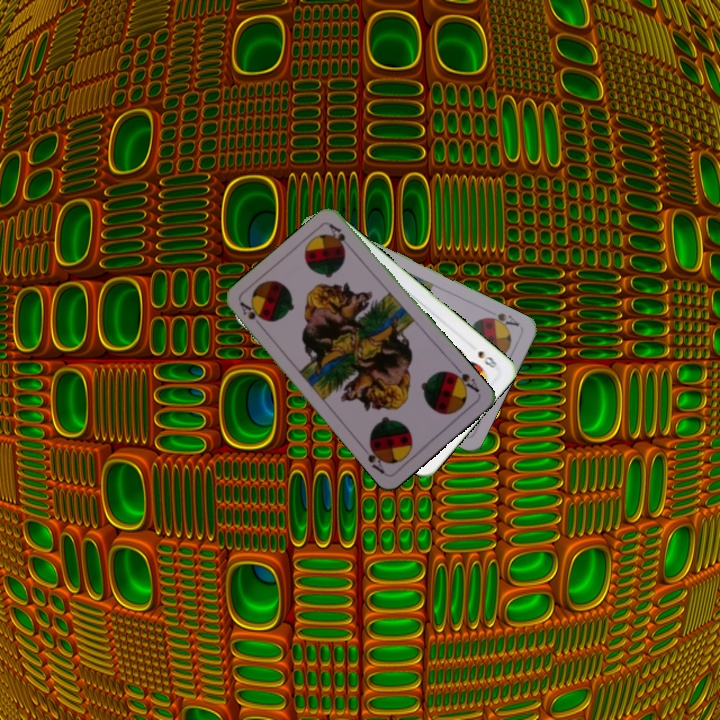S8: (474, 346, 500, 371)
SA: (446, 362, 482, 395), (236, 298, 268, 332), (482, 309, 522, 331)
